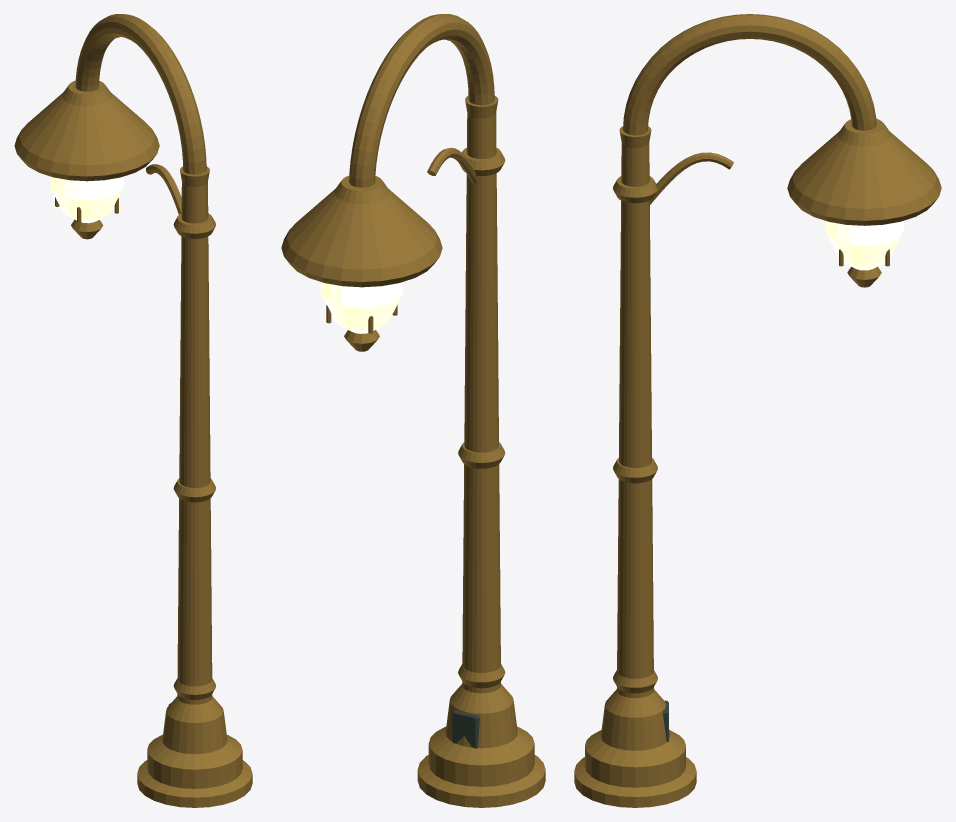
Rendered from SM_StreetLamp_L0.glb.
The picture shows the model from 3 angles, left to right: view 1: azimuth 30°, elevation 25°; view 2: azimuth 150°, elevation 25°; view 3: azimuth 270°, elevation 25°; orthographic projection. The views are drawn at different scales.
Parts seen in each view (by area): view 1: SM_StreetLamp, SM_LampHead; view 2: SM_StreetLamp, SM_LampHead; view 3: SM_StreetLamp, SM_LampHead.
Part boxes in pixels (bbox=[...]): SM_StreetLamp: bbox=[14, 14, 252, 807]; SM_LampHead: bbox=[50, 176, 124, 223]; SM_StreetLamp: bbox=[281, 14, 545, 807]; SM_LampHead: bbox=[320, 282, 403, 333]; SM_StreetLamp: bbox=[574, 14, 941, 807]; SM_LampHead: bbox=[824, 221, 904, 270].
Size of the model in its own units: 0.58 by 3.18 by 1.38.
